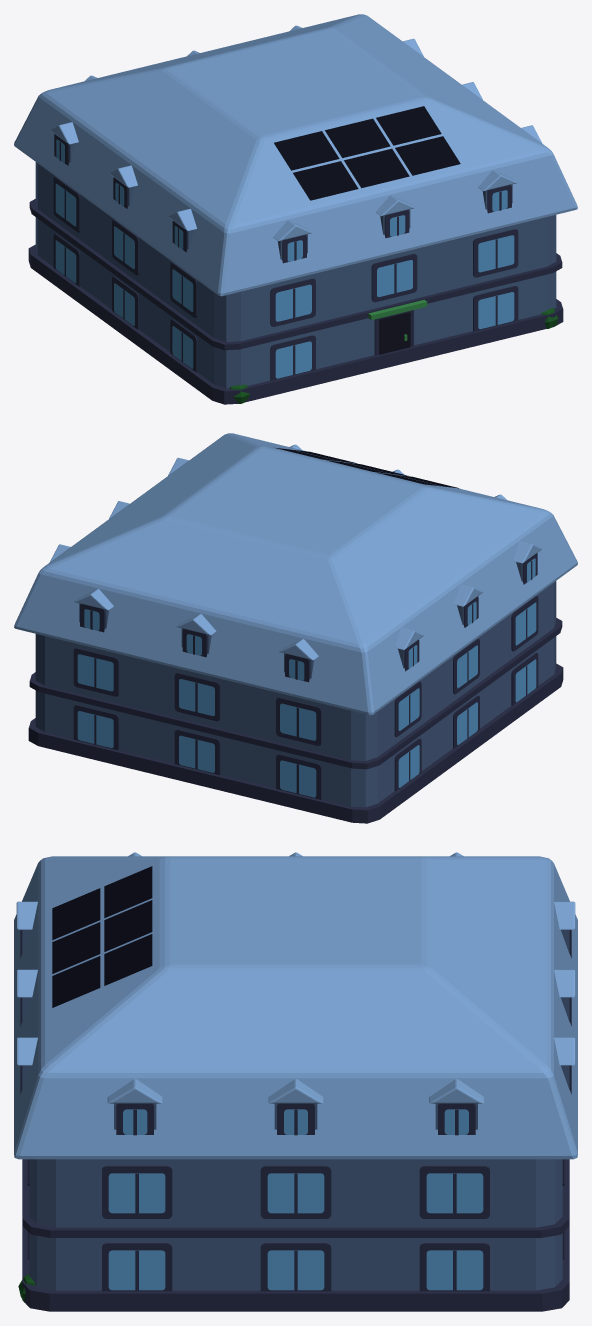
Rendered from house-2x2-2f-mansard-b-solar.glb.
3 views of the same model, one above another, from view 1: azimuth 30°, elevation 25°; view 2: azimuth 150°, elevation 25°; view 3: azimuth 270°, elevation 25° (orthographic). The views are drawn at different scales.
Parts seen in each view (by area): view 1: house-2x2-2f-mansard-b-solar; view 2: house-2x2-2f-mansard-b-solar; view 3: house-2x2-2f-mansard-b-solar.
Part boxes in pixels (<box>): house-2x2-2f-mansard-b-solar: <box>14,14,577,404</box>; house-2x2-2f-mansard-b-solar: <box>14,433,577,823</box>; house-2x2-2f-mansard-b-solar: <box>14,852,577,1311</box>.
Size of the model in its own units: 1.99 by 1.11 by 1.99.
1 material, 1 textured.
